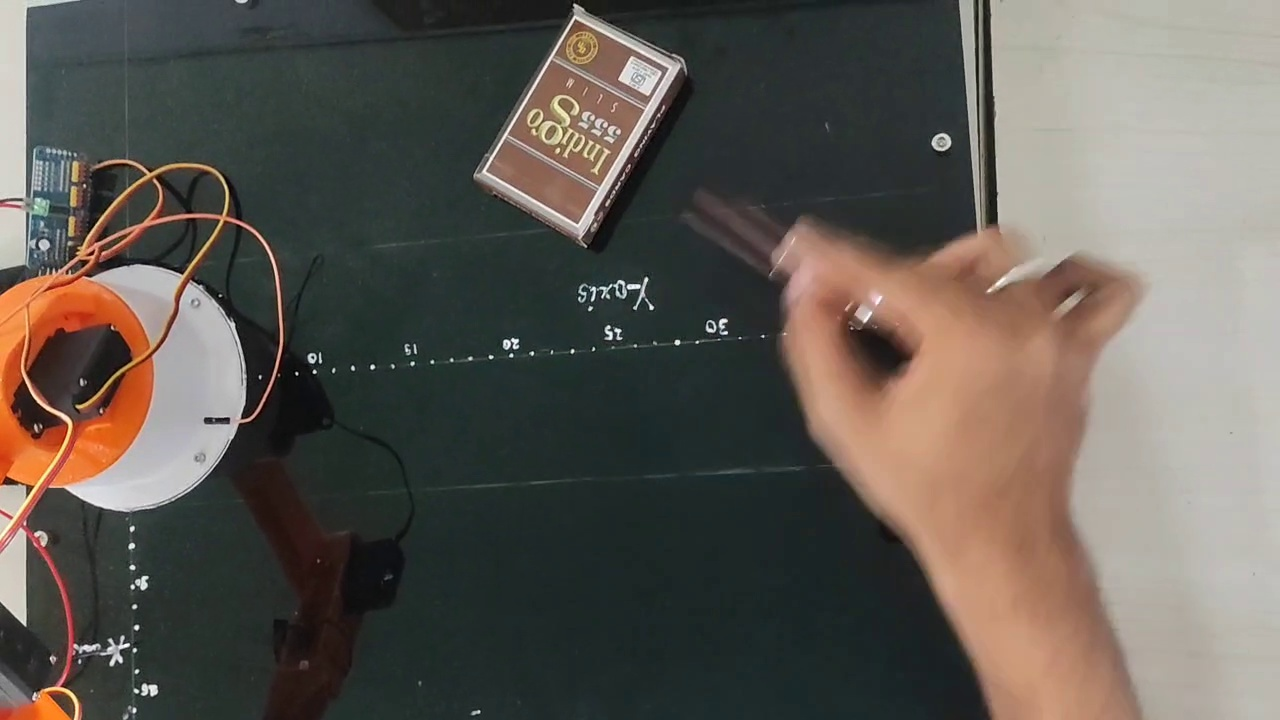BEX: (483, 14, 668, 230)
